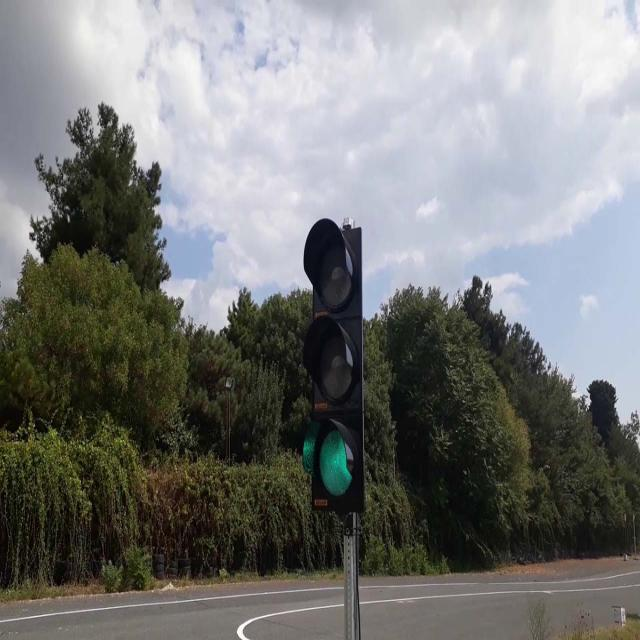yesil: (304, 220, 366, 508)
